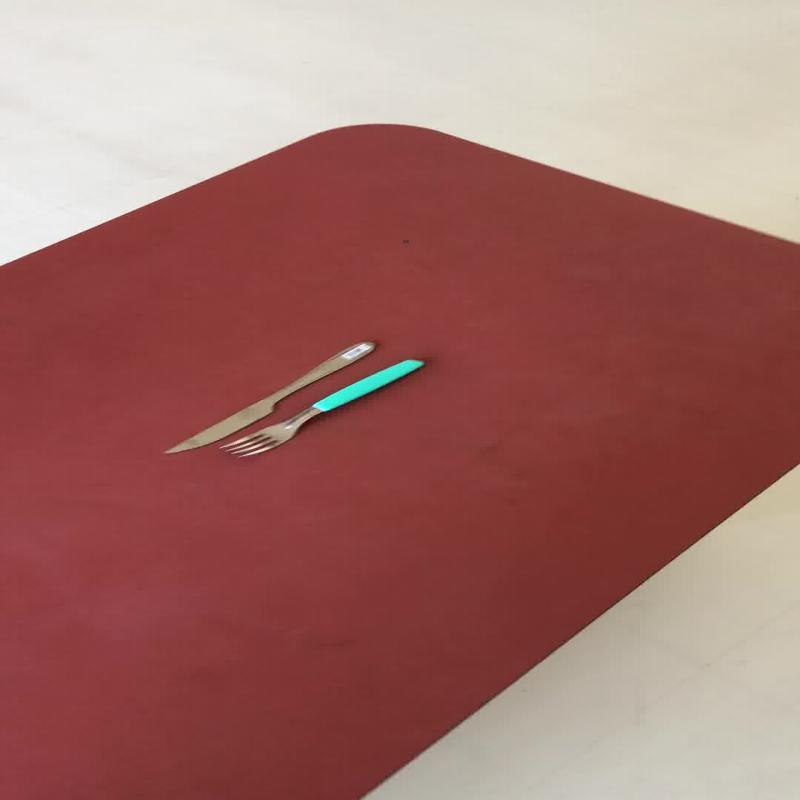fork: (216, 357, 424, 458)
knife: (161, 338, 377, 454)
